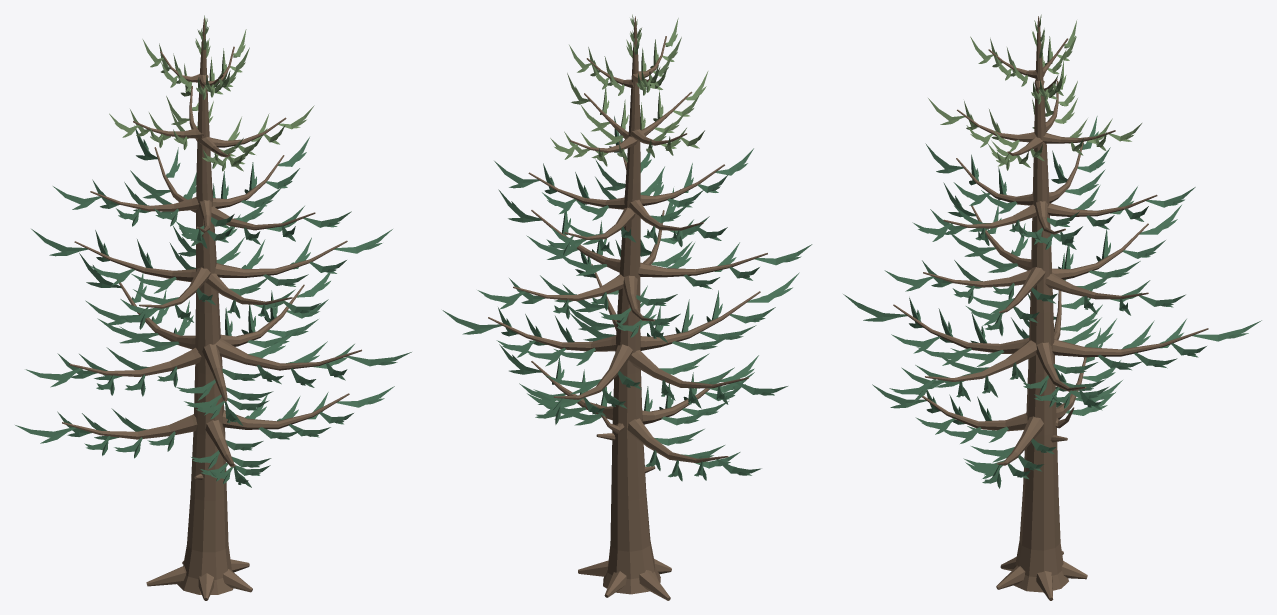
Rendered from conifer-tree.glb.
The picture shows the model from 3 angles, left to right: view 1: azimuth 30°, elevation 25°; view 2: azimuth 150°, elevation 25°; view 3: azimuth 270°, elevation 25°; orthographic projection.
Parts seen in each view (by area): view 1: Conifer | editable woody axis boughs and collars, Conifer | clustered narrow needle-bearing shoots; view 2: Conifer | editable woody axis boughs and collars, Conifer | clustered narrow needle-bearing shoots; view 3: Conifer | editable woody axis boughs and collars, Conifer | clustered narrow needle-bearing shoots.
Part boxes in pixels (x1=…): Conifer | editable woody axis boughs and collars: x1=62, y1=18, x2=361, y2=600; Conifer | clustered narrow needle-bearing shoots: x1=15, y1=15, x2=411, y2=487; Conifer | editable woody axis boughs and collars: x1=488, y1=16, x2=767, y2=600; Conifer | clustered narrow needle-bearing shoots: x1=442, y1=14, x2=812, y2=481; Conifer | editable woody axis boughs and collars: x1=893, y1=16, x2=1208, y2=600; Conifer | clustered narrow needle-bearing shoots: x1=843, y1=14, x2=1261, y2=488.
Bounding box in the file's own units: 4.3 × 7.08 × 4.77.
